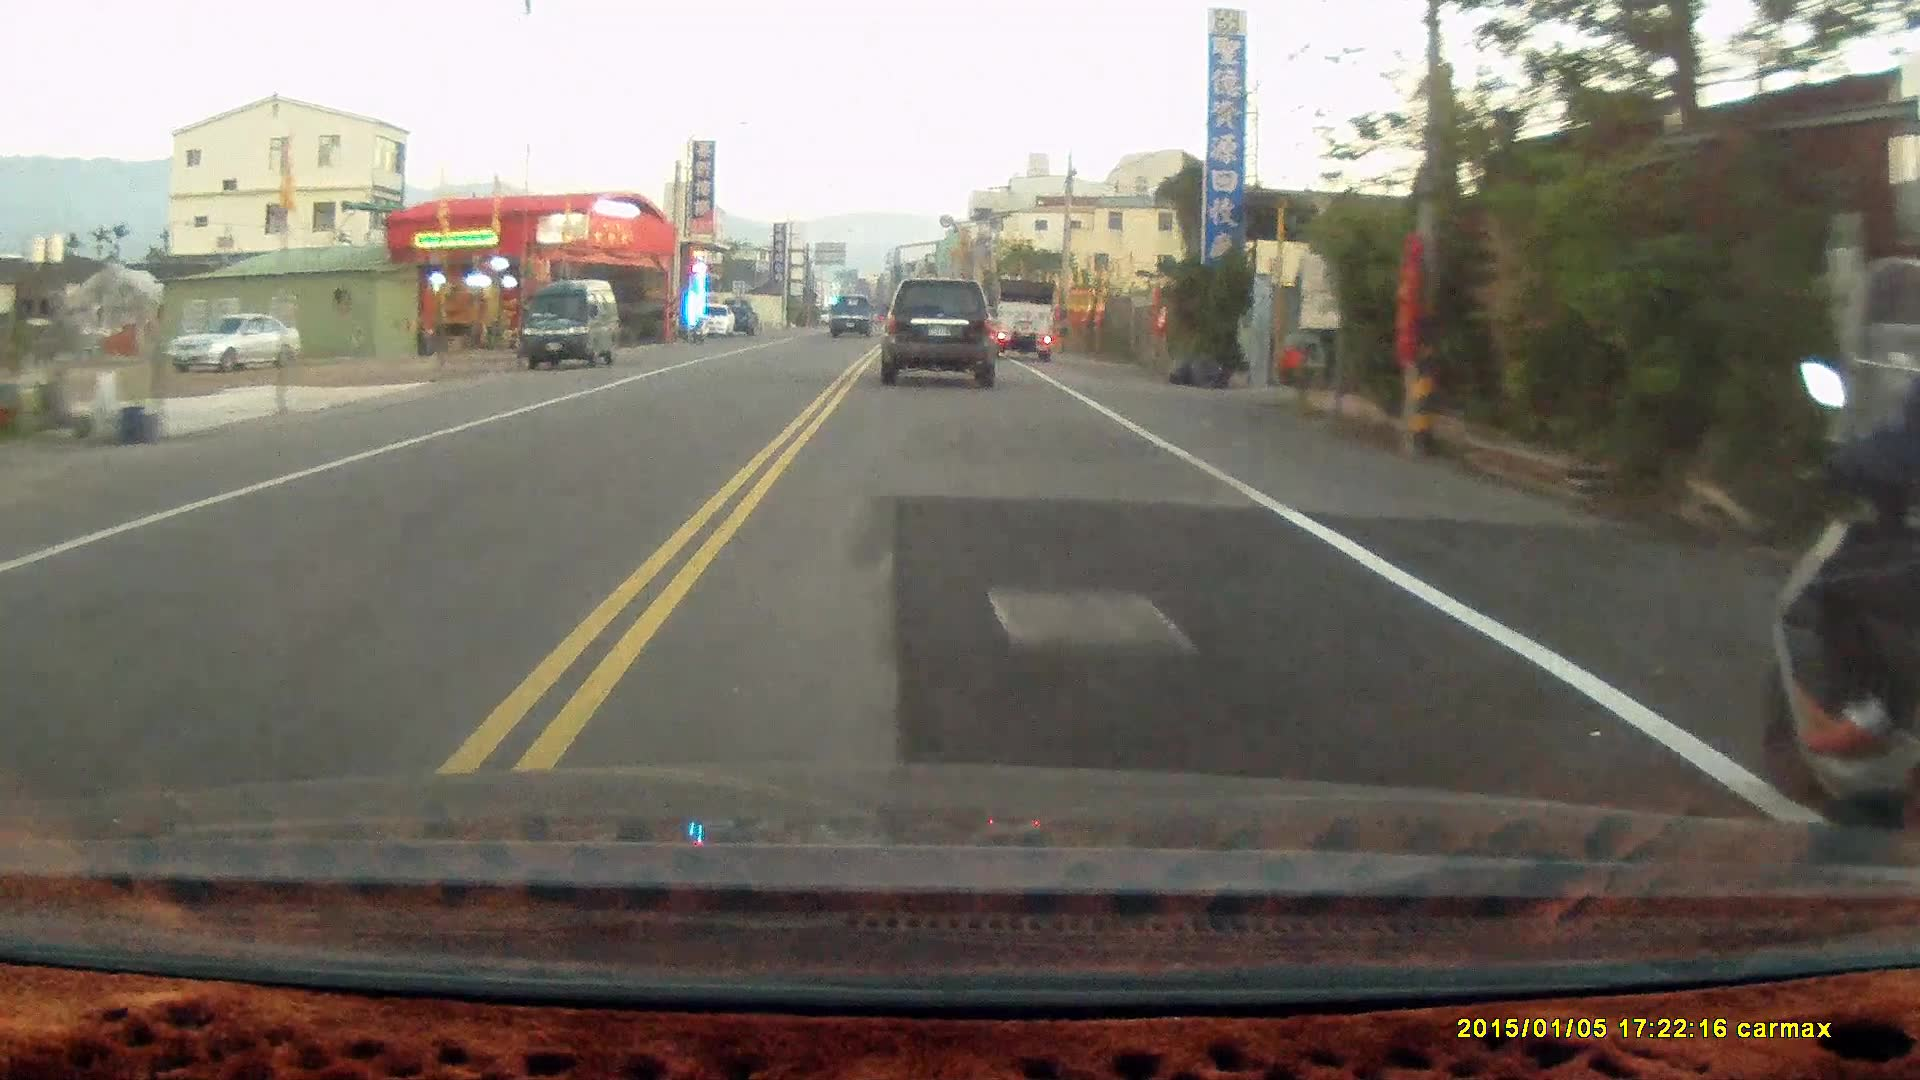rider: (1759, 282, 1920, 846)
vehicle: (872, 269, 1005, 385), (523, 279, 621, 372), (164, 308, 305, 372), (984, 276, 1059, 362)
